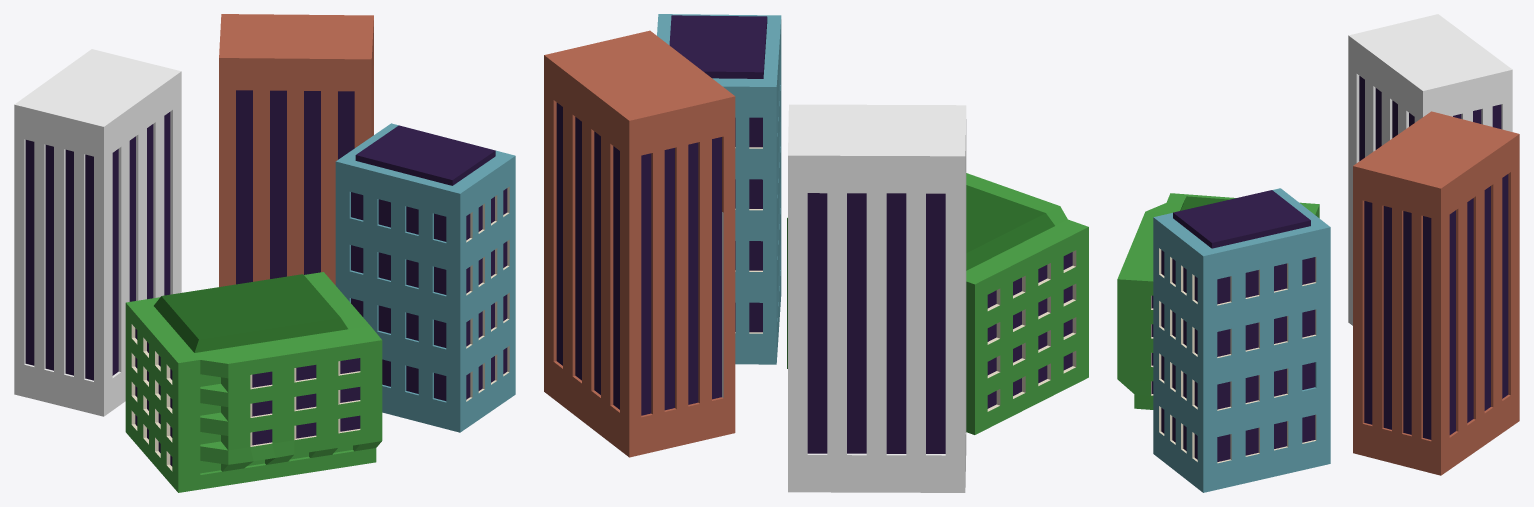
Rendered from M_OfficeTile_Var2.fbx.
3 views of the same model, side by side, from view 1: azimuth 30°, elevation 25°; view 2: azimuth 150°, elevation 25°; view 3: azimuth 270°, elevation 25° (orthographic). The views are drawn at different scales.
Visible parts, largest first — view 1: pCube8; view 2: pCube8; view 3: pCube8.
Part boxes in pixels (bbox=[...]): pCube8: bbox=[14, 14, 515, 492]; pCube8: bbox=[544, 14, 1088, 492]; pCube8: bbox=[1117, 14, 1519, 492].
Bounding box in the file's own units: 1.54 × 1.14 × 1.42.
1 material, 1 textured.
